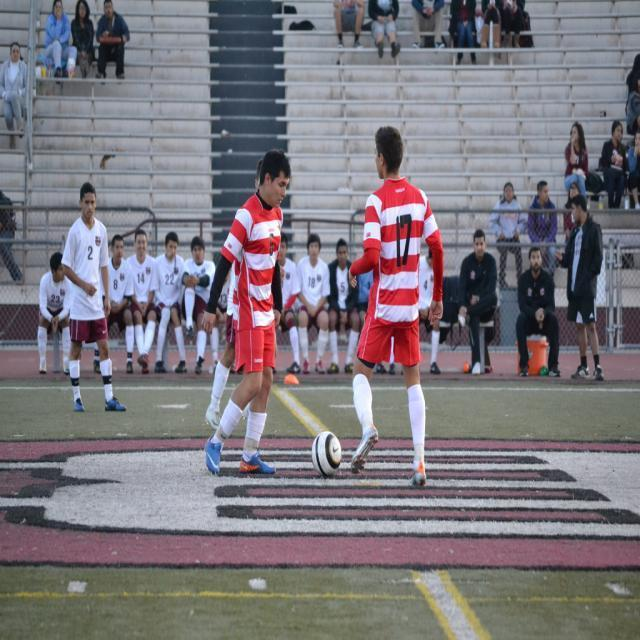football: (300, 427, 350, 484)
